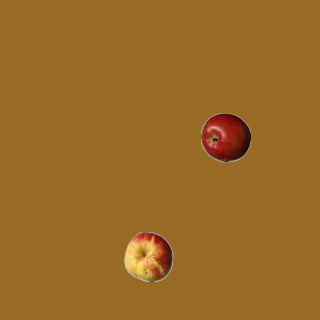Apple Braeburn: (200, 112, 250, 162)
Apple Red Yellow 1: (123, 231, 173, 281)
